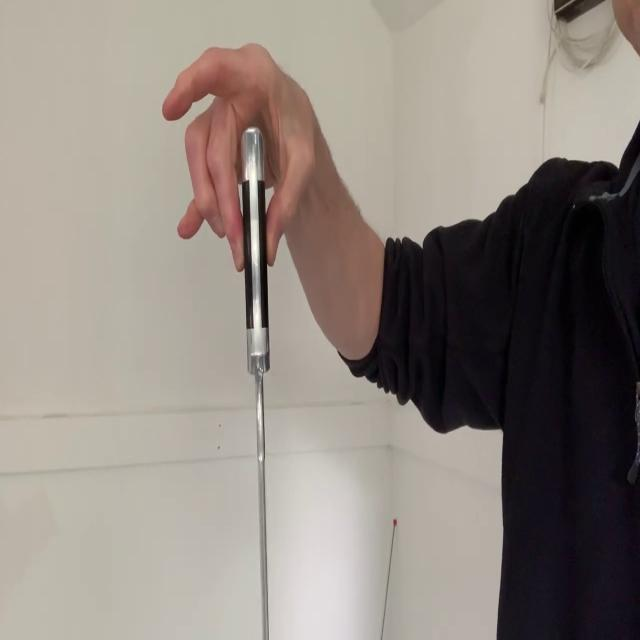Knife_Handle: (163, 42, 316, 640)
